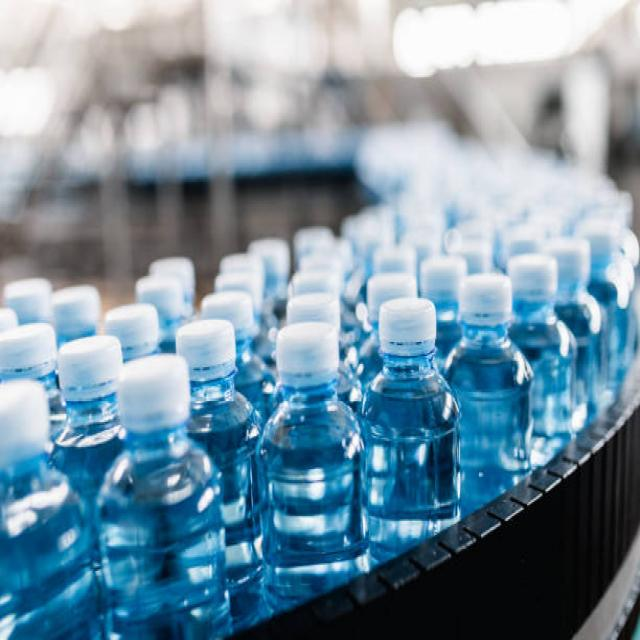plastic: (13, 220, 610, 571)
